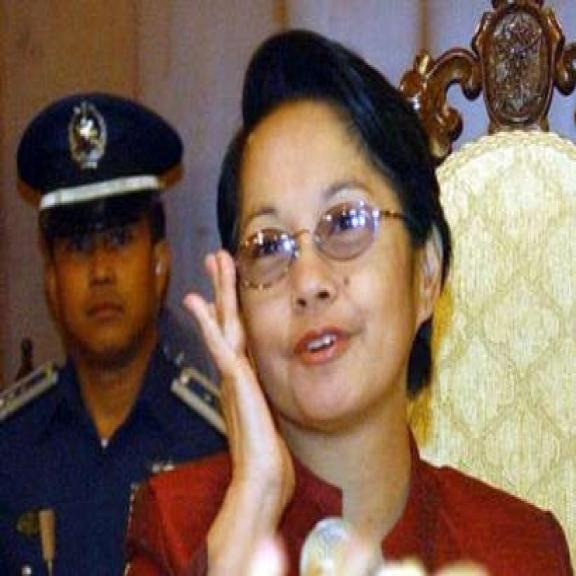face: (233, 107, 450, 430), (42, 206, 175, 354)
